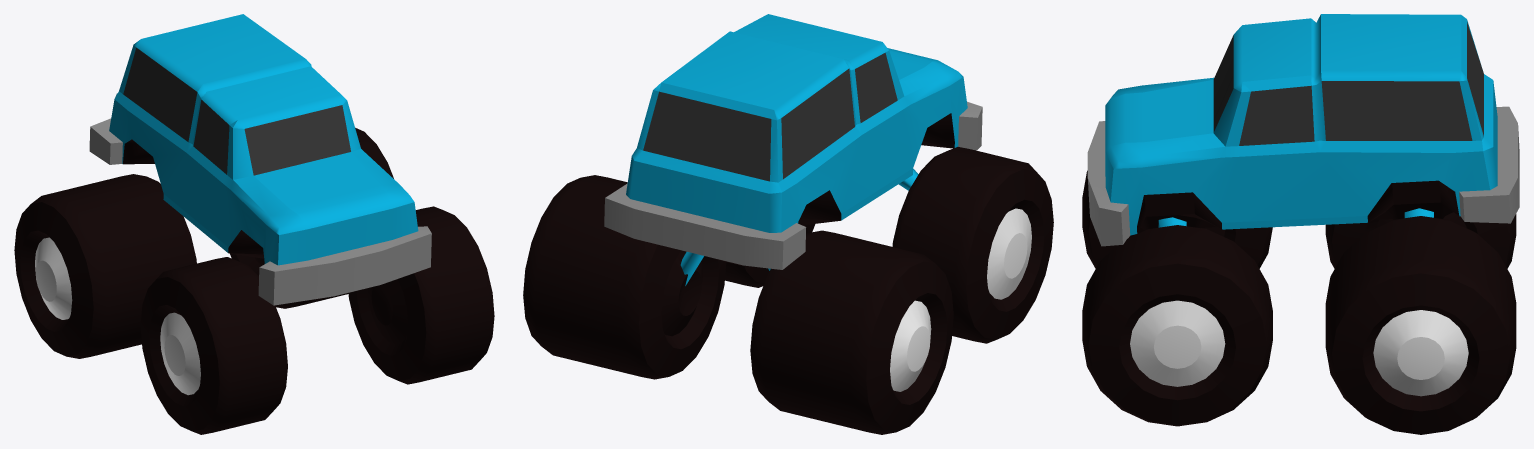
Rendered from Export_Car_Player.FBX.
The picture shows the model from 3 angles, left to right: view 1: azimuth 30°, elevation 25°; view 2: azimuth 150°, elevation 25°; view 3: azimuth 270°, elevation 25°; orthographic projection. The views are drawn at different scales.
Visible parts, largest first — view 1: Heo_Car_Body006, Heo_Car_Wheel_027, Heo_Car_Wheel_026, Heo_Car_Wheel_015, Heo_Car_Wheel_006; view 2: Heo_Car_Body006, Heo_Car_Wheel_027, Heo_Car_Wheel_006, Heo_Car_Wheel_026, Heo_Car_Wheel_015; view 3: Heo_Car_Body006, Heo_Car_Wheel_006, Heo_Car_Wheel_015, Heo_Car_Wheel_027, Heo_Car_Wheel_026.
Part boxes in pixels (left/top/right/bottom): Heo_Car_Body006: left=89, top=14, right=431, bottom=305; Heo_Car_Wheel_027: left=14, top=174, right=196, bottom=358; Heo_Car_Wheel_026: left=140, top=257, right=287, bottom=434; Heo_Car_Wheel_015: left=348, top=206, right=494, bottom=384; Heo_Car_Wheel_006: left=230, top=127, right=393, bottom=308; Heo_Car_Body006: left=604, top=14, right=982, bottom=269; Heo_Car_Wheel_027: left=750, top=230, right=953, bottom=434; Heo_Car_Wheel_006: left=523, top=175, right=726, bottom=379; Heo_Car_Wheel_026: left=892, top=147, right=1053, bottom=343; Heo_Car_Wheel_015: left=725, top=224, right=815, bottom=287; Heo_Car_Body006: left=1087, top=14, right=1519, bottom=246; Heo_Car_Wheel_006: left=1325, top=216, right=1516, bottom=434; Heo_Car_Wheel_015: left=1082, top=225, right=1272, bottom=426; Heo_Car_Wheel_027: left=1325, top=212, right=1516, bottom=268; Heo_Car_Wheel_026: left=1082, top=170, right=1272, bottom=268.
Size of the model in its own units: 10.95 by 8.87 by 11.2.
